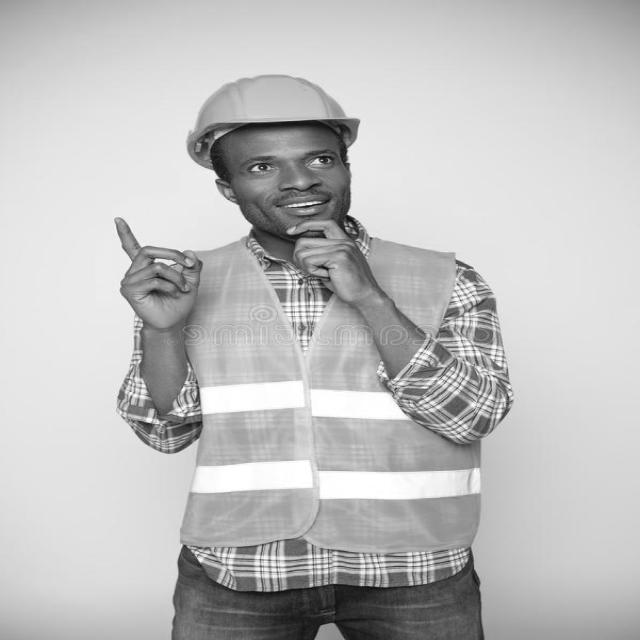face_nomask: (214, 137, 359, 235)
hand_noglove: (99, 222, 200, 326), (281, 222, 373, 310)
head_helmet: (165, 69, 367, 156)
person: (134, 47, 503, 640)
vest: (172, 237, 483, 559)
